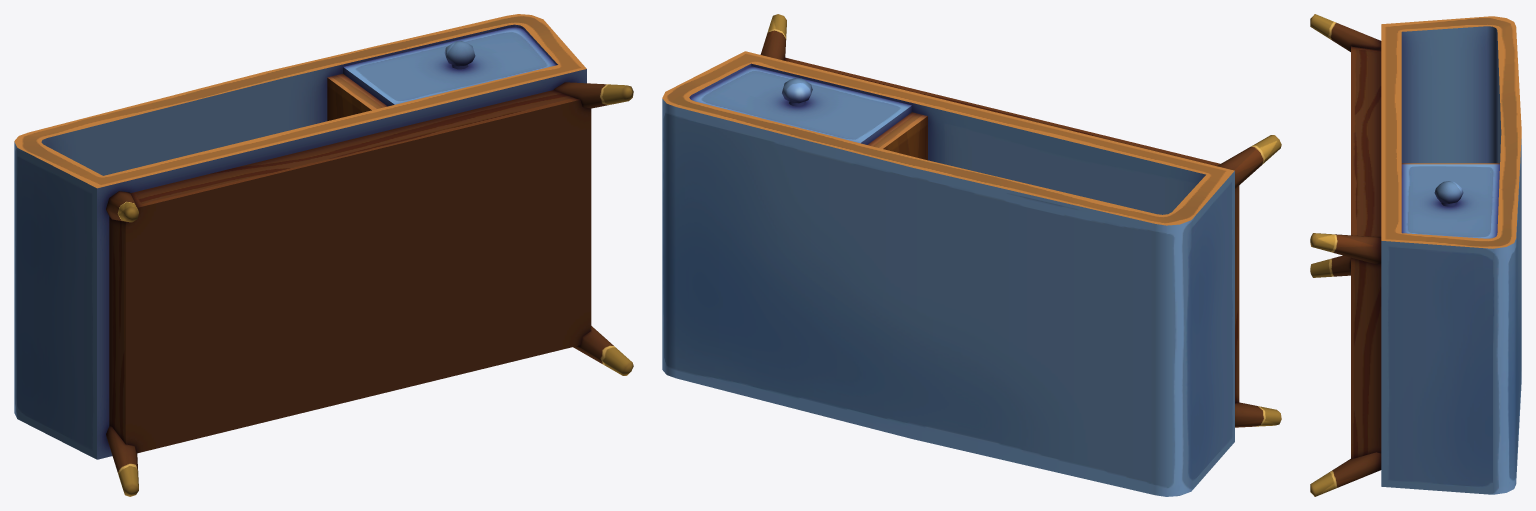
File: ModernCoffeeTable.fbx
The picture shows the model from 3 angles, left to right: view 1: azimuth 30°, elevation 25°; view 2: azimuth 150°, elevation 25°; view 3: azimuth 270°, elevation 25°; orthographic projection. The views are drawn at different scales.
Visible parts, largest first — view 1: ModernCoffeeTable; view 2: ModernCoffeeTable; view 3: ModernCoffeeTable.
Boxes of the visible parts, left/top/right/bottom form: ModernCoffeeTable: left=14, top=14, right=633, bottom=496; ModernCoffeeTable: left=662, top=14, right=1281, bottom=496; ModernCoffeeTable: left=1310, top=14, right=1521, bottom=496.
Size of the model in its own units: 93.37 by 51.16 by 35.89.
1 material, 1 textured.
